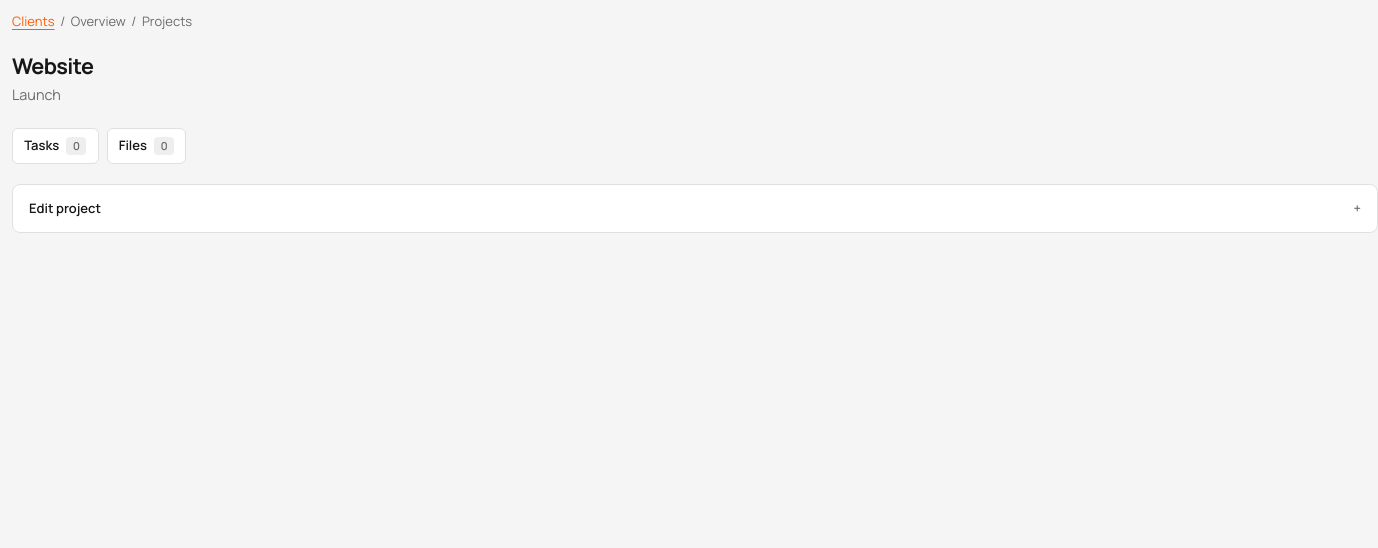
Test case: ProjectHubPage › updates a project name and notes
Click the heading "Edit project" at (65, 208), box top-left (29, 198), bottom-right (101, 216)
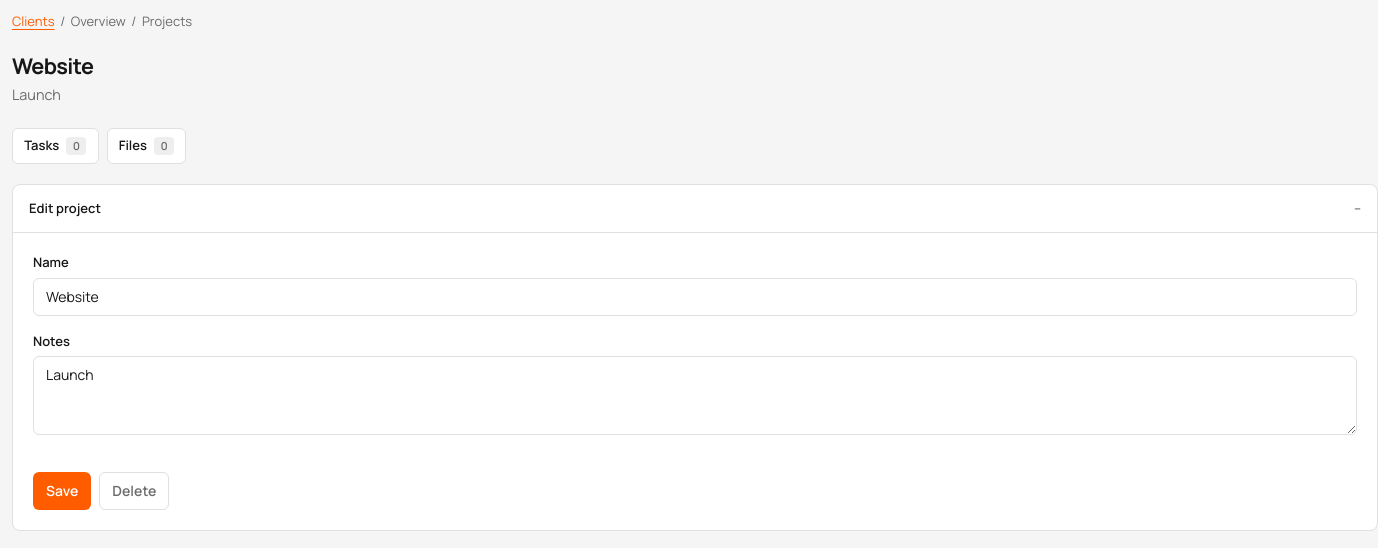
Now the field labelled "Name" holds "Website"
Replace the text in the field labelled "Name" with "Mobile" at (695, 297), box top-left (33, 278), bottom-right (1357, 316)
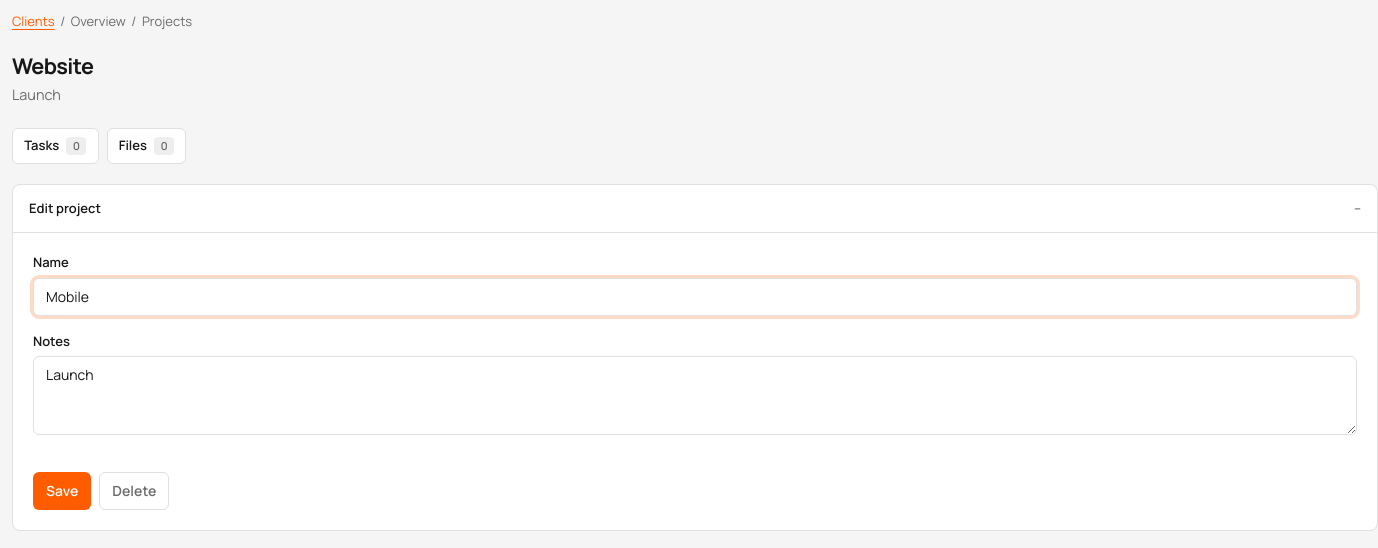
Replace the text in the text box labelled "Notes" with "App" at (695, 395), box top-left (33, 356), bottom-right (1357, 435)
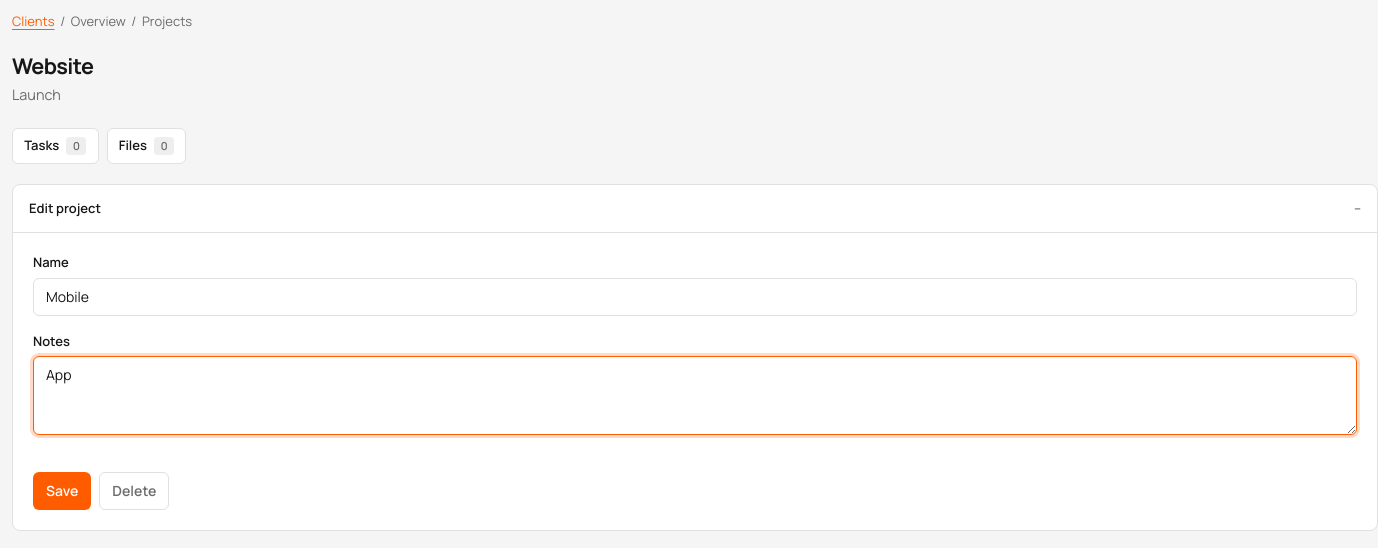
Click the button "Save" at (62, 492), box top-left (33, 472), bottom-right (91, 510)
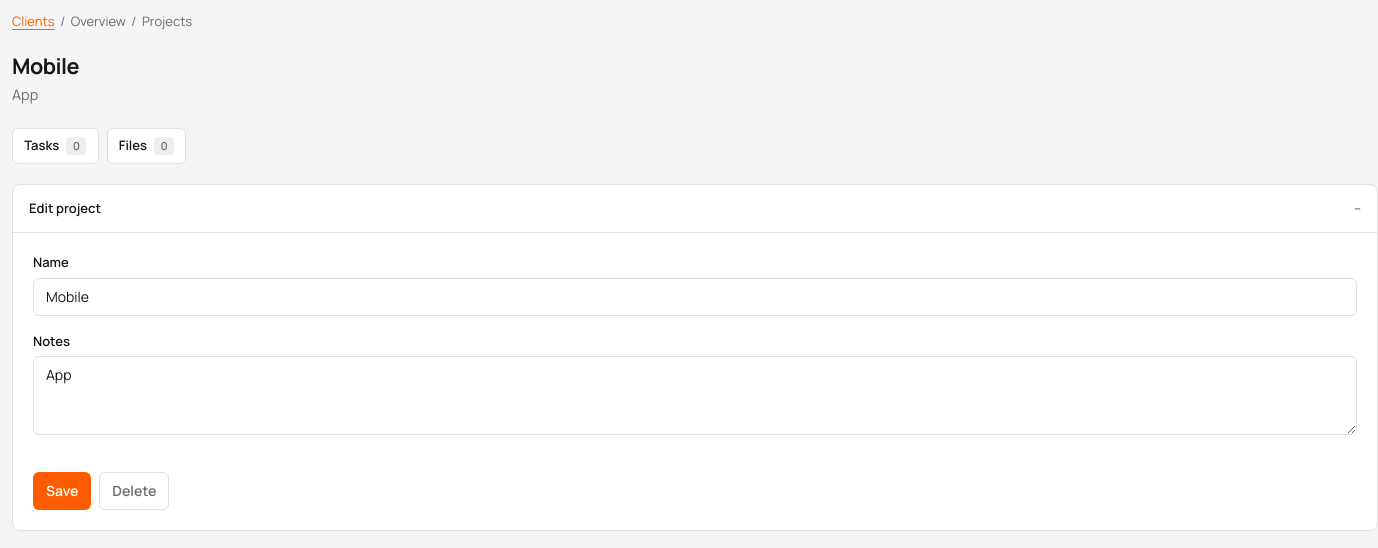
Now the heading "Mobile" is shown, box top-left (12, 50), bottom-right (79, 80)
Now the text "App" is shown, box top-left (12, 85), bottom-right (38, 104)
